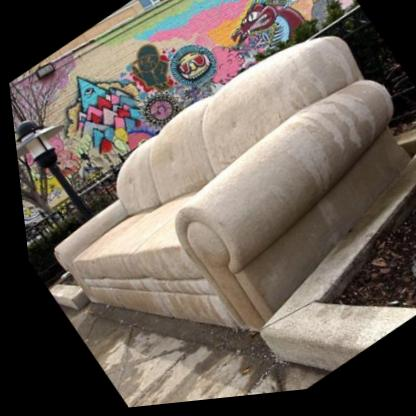Sofa: (4, 7, 416, 416)
